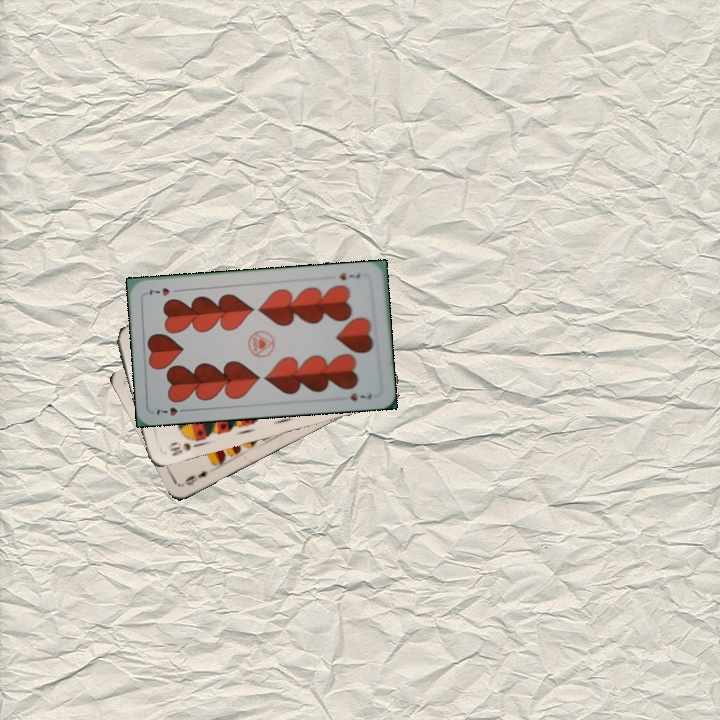E9: (179, 466, 209, 488)
H7: (152, 403, 191, 419), (336, 269, 363, 283)
S10: (164, 438, 202, 459)
